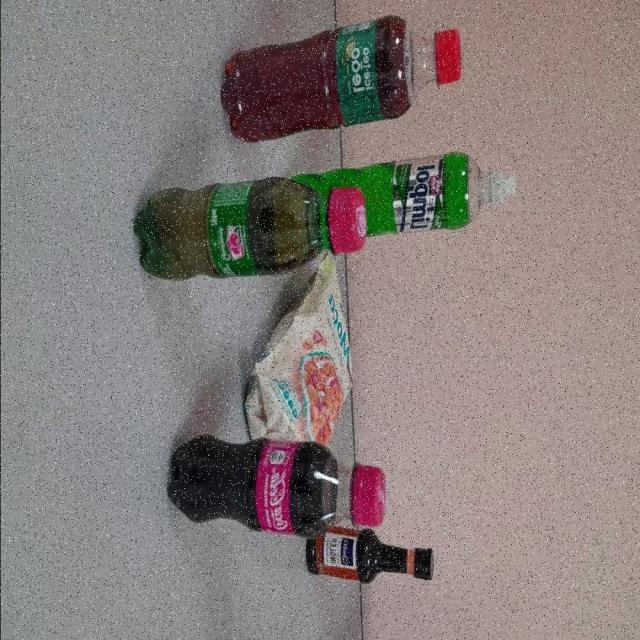Cleaner: (290, 152, 515, 237)
Coke: (170, 434, 386, 536)
CornFlakes: (242, 258, 349, 445)
EnglishSauce: (306, 526, 434, 583)
Guarana: (134, 180, 366, 281)
IceTea: (219, 15, 460, 143)
